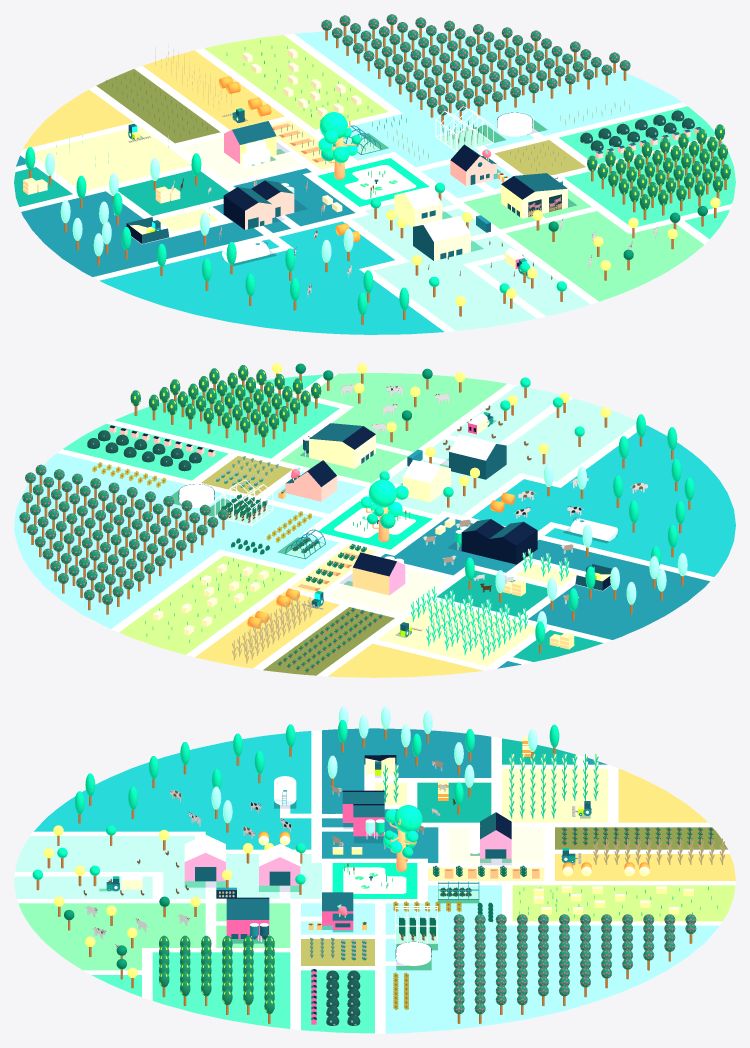
Rendered from boerderleren.gltf.
3 renders of one model, top to bottom at view 1: azimuth 30°, elevation 25°; view 2: azimuth 150°, elevation 25°; view 3: azimuth 270°, elevation 25°, orthographic.
Visible parts, largest first — view 1: roads, grass.009, grass.015, grass.010, grass.012, grass.016, grass.013, grass.004, grass.007, grass.003, grass.005, grass.002 (+18 smaller); view 2: roads, grass.009, grass.015, grass.010, grass.016, grass.012, grass.013, grass.007, grass.004, grass.003, grass.005, grass.002 (+16 smaller); view 3: roads, grass.009, grass.015, grass.010, grass.013, grass.012, grass.016, grass.004, grass.007, grass.003, grass.002, grass.005 (+16 smaller).
Part boxes in pixels (x1=…): roads: x1=15, y1=34, x2=731, y2=331; grass.009: x1=294, y1=30, x2=681, y2=167; grass.015: x1=100, y1=221, x2=444, y2=334; grass.010: x1=352, y1=193, x2=590, y2=330; grass.012: x1=463, y1=189, x2=703, y2=301; grass.016: x1=16, y1=155, x2=354, y2=276; grass.013: x1=559, y1=106, x2=735, y2=239; grass.004: x1=22, y1=50, x2=284, y2=149; grass.007: x1=204, y1=35, x2=388, y2=129; grass.003: x1=34, y1=126, x2=218, y2=231; grass.005: x1=96, y1=69, x2=220, y2=143; grass.002: x1=14, y1=167, x2=228, y2=215; roads: x1=57, y1=373, x2=713, y2=676; grass.009: x1=14, y1=453, x2=338, y2=628; grass.015: x1=471, y1=425, x2=735, y2=576; grass.010: x1=366, y1=385, x2=636, y2=515; grass.016: x1=381, y1=517, x2=709, y2=668; grass.012: x1=280, y1=373, x2=506, y2=482; grass.013: x1=63, y1=374, x2=339, y2=480; grass.007: x1=119, y1=555, x2=296, y2=654; grass.004: x1=195, y1=591, x2=482, y2=677; grass.003: x1=378, y1=564, x2=576, y2=666; grass.005: x1=263, y1=607, x2=394, y2=675; grass.002: x1=436, y1=570, x2=603, y2=661; roads: x1=14, y1=730, x2=735, y2=1033; grass.009: x1=385, y1=885, x2=719, y2=1033; grass.015: x1=34, y1=731, x2=311, y2=849; grass.010: x1=14, y1=836, x2=321, y2=898; grass.013: x1=91, y1=952, x2=374, y2=1033; grass.012: x1=18, y1=903, x2=290, y2=970; grass.016: x1=322, y1=728, x2=607, y2=862; grass.004: x1=555, y1=768, x2=735, y2=880; grass.007: x1=512, y1=885, x2=735, y2=921; grass.003: x1=375, y1=769, x2=607, y2=822; grass.002: x1=417, y1=738, x2=575, y2=822; grass.005: x1=555, y1=827, x2=727, y2=849.
Size of the model in its own units: 3427 by 365 by 3427.
Materials: 137 (49 with a texture image).
